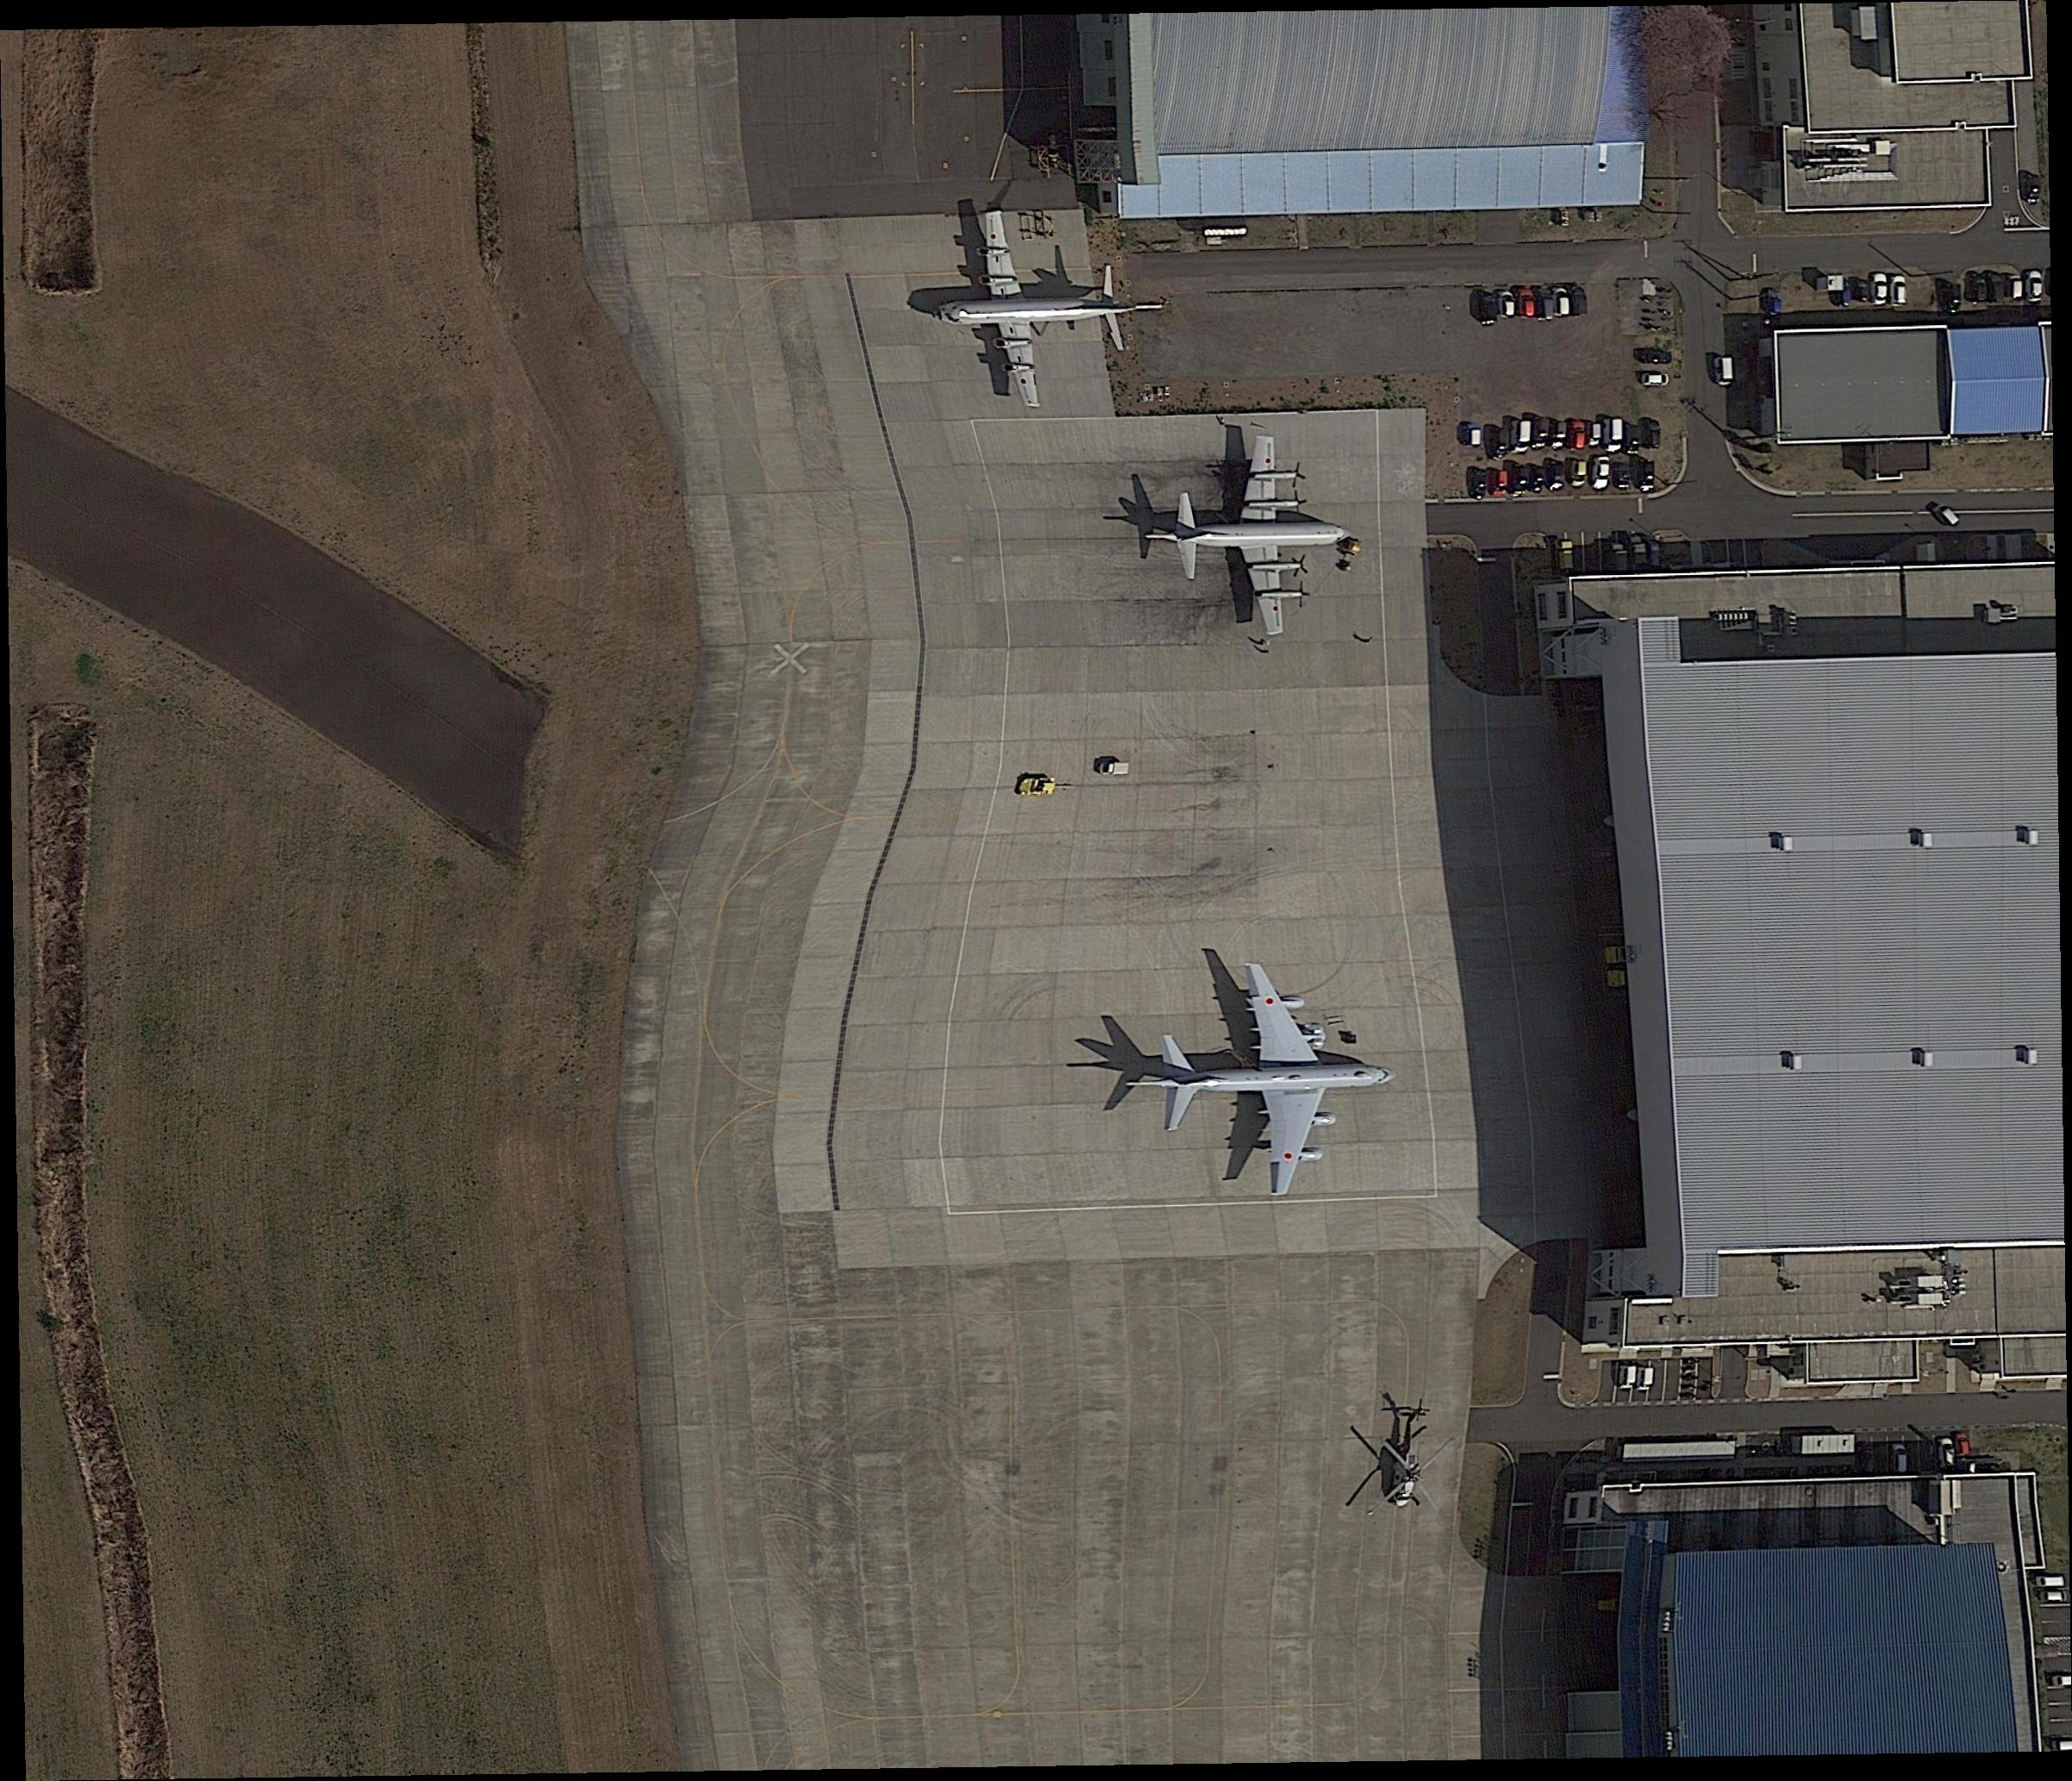plane: (1154, 964, 1395, 1201), (909, 203, 1182, 412), (1173, 440, 1355, 636)
